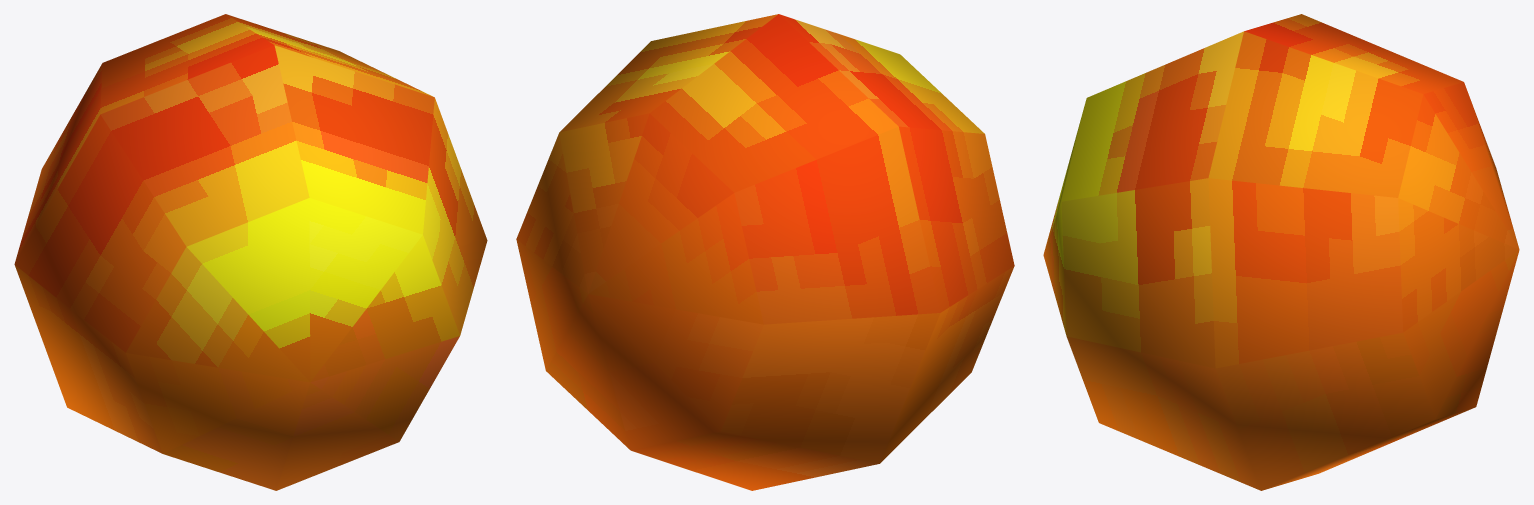
3 views of the same model, side by side, from view 1: azimuth 30°, elevation 25°; view 2: azimuth 150°, elevation 25°; view 3: azimuth 270°, elevation 25° (orthographic).
Visible parts, largest first — view 1: Sphere_8 (1); view 2: Sphere_8 (1); view 3: Sphere_8 (1).
Part boxes in pixels (box(x1,y1,x2,y2)): Sphere_8 (1): box(14, 14, 487, 490); Sphere_8 (1): box(516, 14, 1014, 490); Sphere_8 (1): box(1043, 14, 1519, 490).
Bounding box in the file's own units: 1.03 × 1.06 × 1.02.
